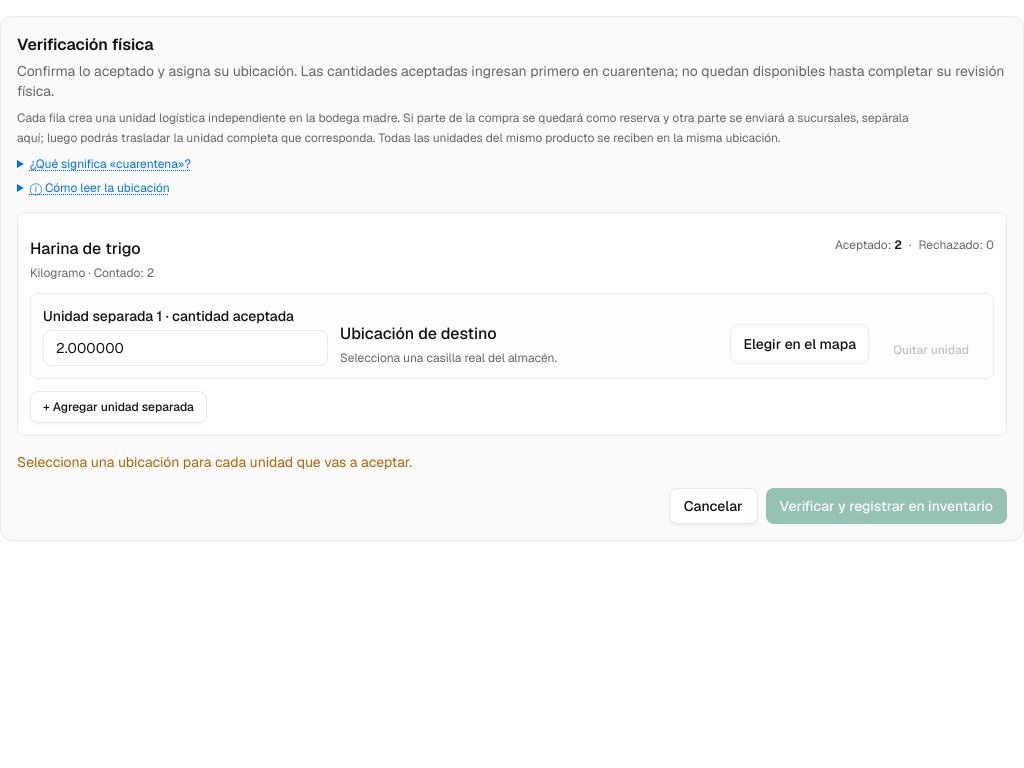
Test: PurchaseVerificationEditor › offers product configuration and retries with the same quantities and location
The image size is (1024, 768).
Expected: the number field is shown, [43, 330, 328, 366]
Click the button "Elegir en el mapa" at (800, 344), box [730, 324, 869, 364]
(page scrolled)
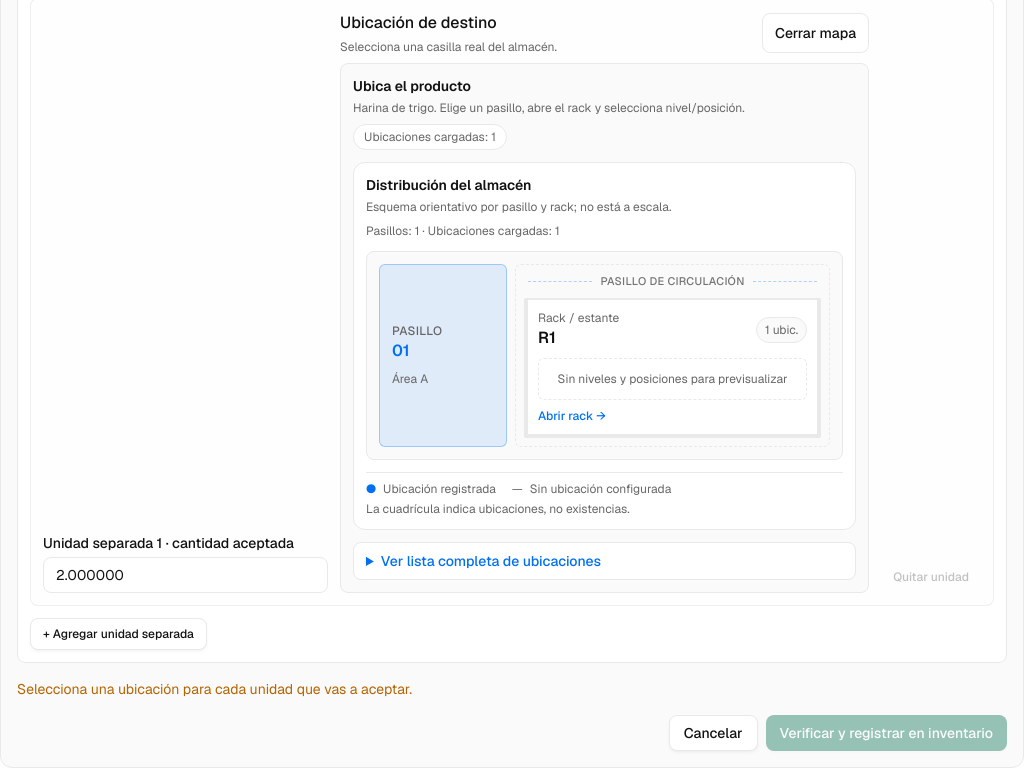
Click the heading "Ver lista completa de ubicaciones" at (491, 560), box [381, 552, 601, 570]
(page scrolled)
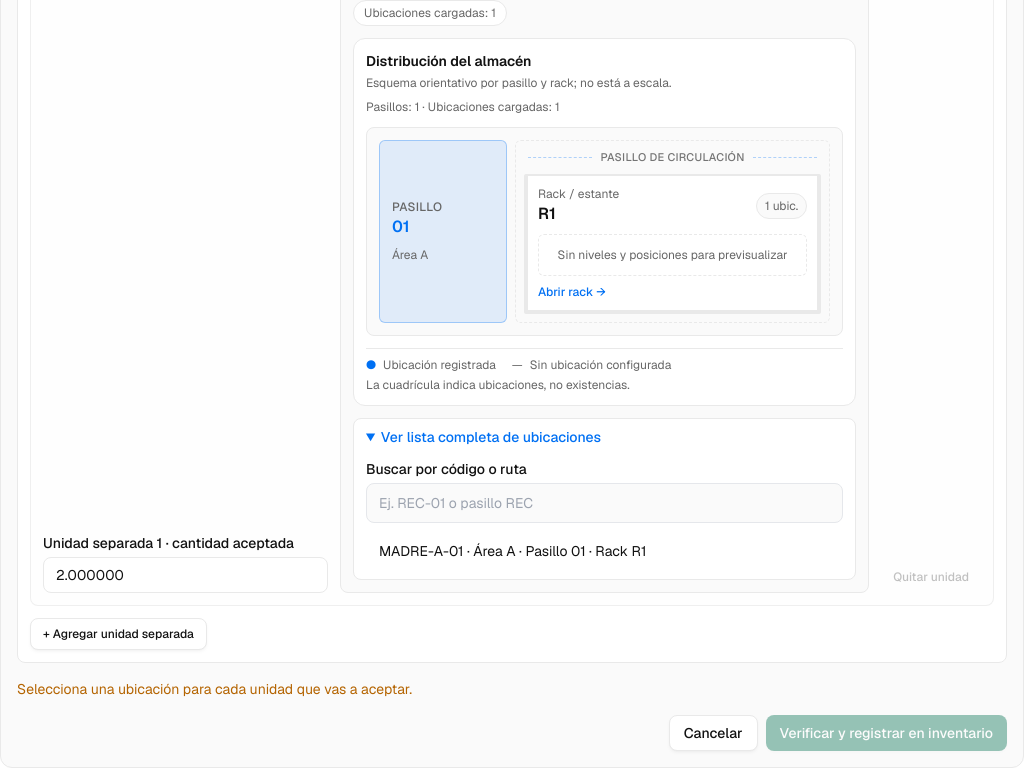
Click the button with aria-label "Asignar MADRE-A-01" at (605, 550), box [366, 530, 843, 570]
(page scrolled)
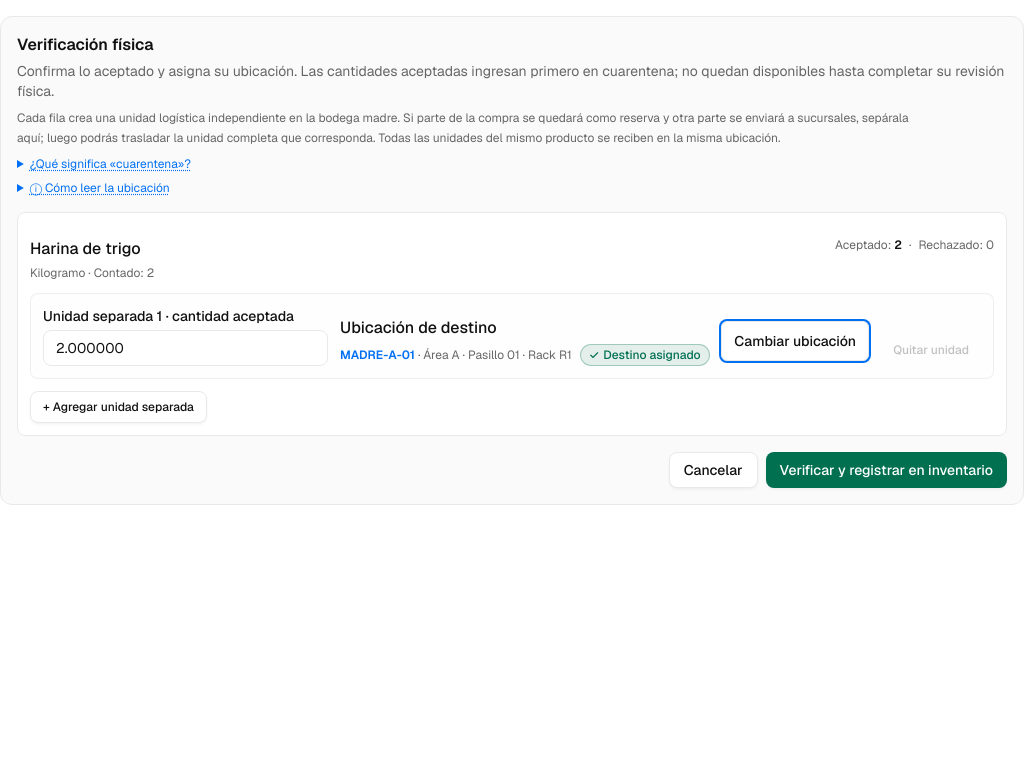
Expected: the button "Verificar y registrar en inventario" is enabled, [766, 452, 1007, 488]
Submit the form named "Verificar cantidades aceptadas"
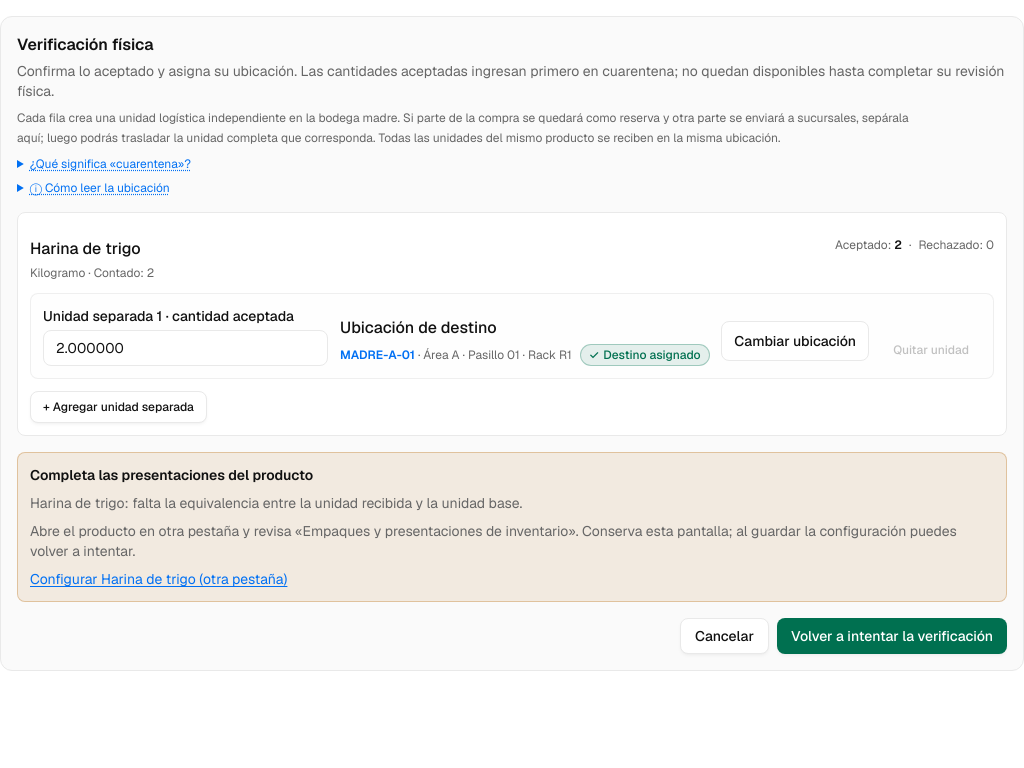
Expected: the number field holds "2", [43, 330, 328, 366]
Expected: the button "Volver a intentar la verificación" is enabled, [777, 618, 1007, 654]
Expected: the text "Completa las presentaciones del producto" is shown, [30, 466, 313, 484]
Submit the form named "Verificar cantidades aceptadas"
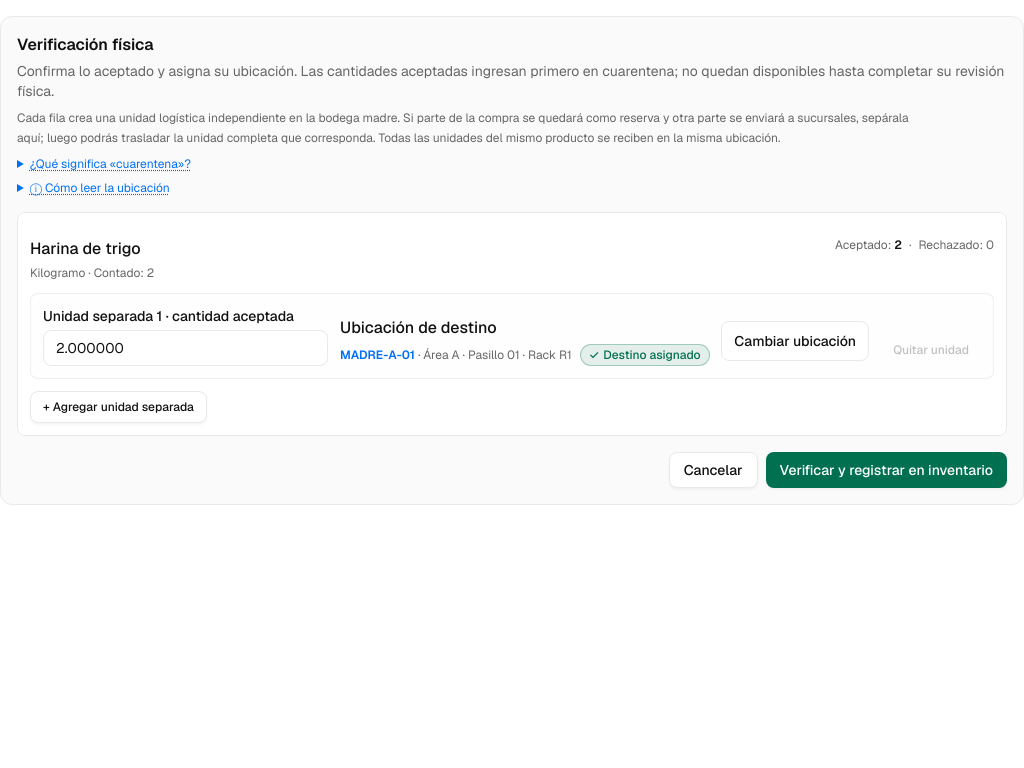
Expected: the message "Completa las presentaciones del producto Harina de trigo: falta la equivalencia" is gone
